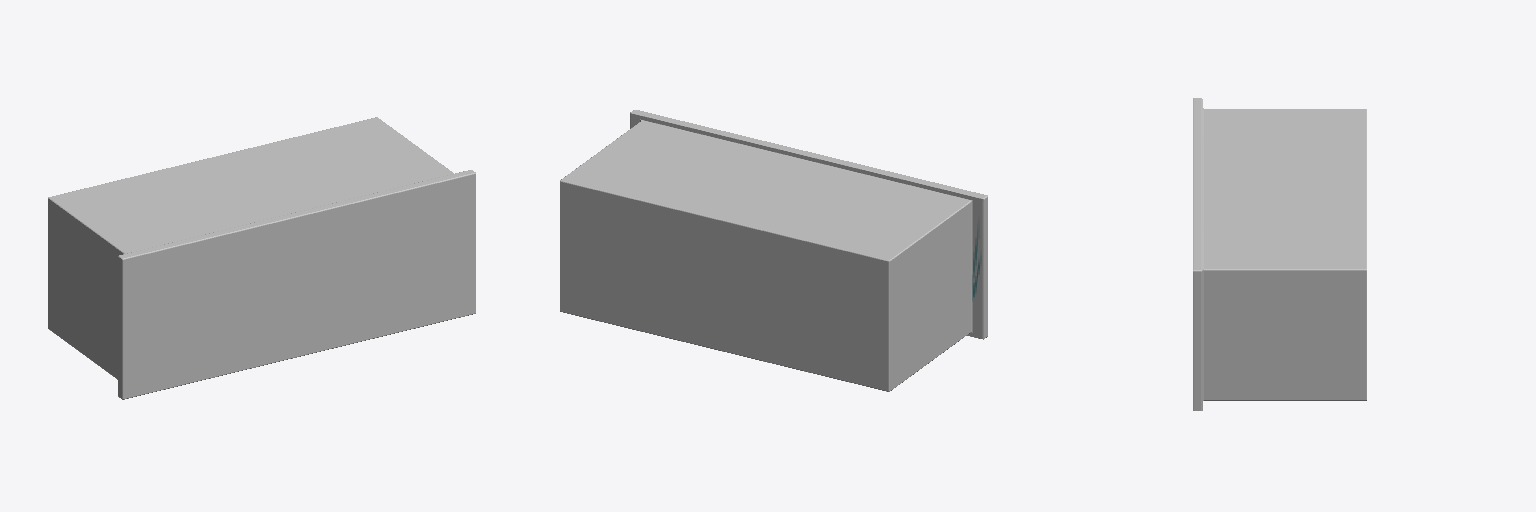
3 renders of one model, left to right at view 1: azimuth 30°, elevation 25°; view 2: azimuth 150°, elevation 25°; view 3: azimuth 270°, elevation 25°, orthographic.
Parts seen in each view (by area): view 1: submesh; view 2: submesh; view 3: submesh.
Boxes of the visible parts, x1=… form: submesh: x1=48, y1=117, x2=475, y2=399; submesh: x1=560, y1=110, x2=987, y2=391; submesh: x1=1193, y1=98, x2=1366, y2=410.
Bounding box in the file's own units: 2.01 × 0.7795 × 0.8573.
1 materials, 1 textured.